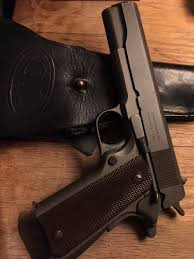gun: (35, 4, 186, 259)
